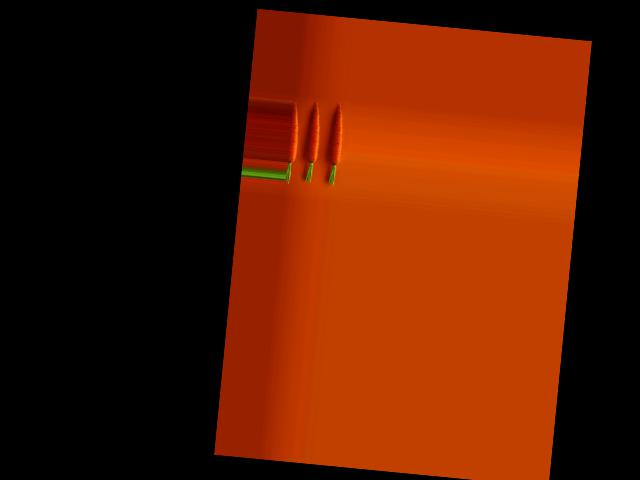carrot: (285, 111, 301, 185)
